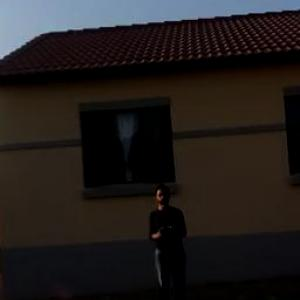follow: (144, 178, 195, 299)
